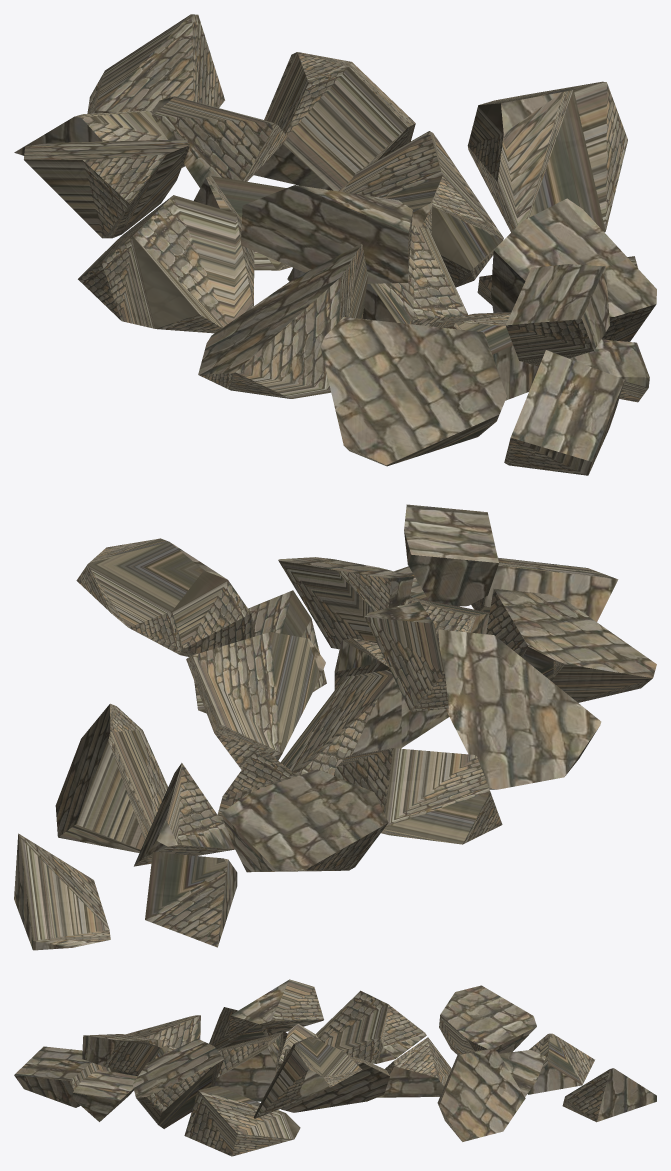
File: BreakWallSmall_000015.obj
3 renders of one model, top to bottom at view 1: azimuth 30°, elevation 25°; view 2: azimuth 150°, elevation 25°; view 3: azimuth 270°, elevation 25°, orthographic. The views are drawn at different scales.
Visible parts, largest first — view 1: Cube.002_cell.013_Cube.002_cell.012, Cube.002_cell.003_Cube.002_cell.002, Cube.002_cell.012_Cube.002_cell.011, Cube.002_cell.017_Cube.002_cell.016, Cube.002_cell.014_Cube.002_cell.013, Cube.002_cell.009_Cube.002_cell.008, Cube.002_cell.010_Cube.002_cell.009, Cube.002_cell.015_Cube.002_cell.014, Cube.002_cell.004_Cube.002_cell.003, Cube.002_cell.002_Cube.002_cell.001, Cube.002_cell.007_Cube.002_cell.006, Cube.002_cell.005_Cube.002_cell.004 (+6 smaller); view 2: Cube.002_cell.017_Cube.002_cell.016, Cube.002_cell.003_Cube.002_cell.002, Cube.002_cell.010_Cube.002_cell.009, Cube.002_cell.015_Cube.002_cell.014, Cube.002_cell.014_Cube.002_cell.013, Cube.002_cell.012_Cube.002_cell.011, Cube.002_cell.013_Cube.002_cell.012, Cube.002_cell.007_Cube.002_cell.006, Cube.002_cell.006_Cube.002_cell.005, Cube.002_cell.005_Cube.002_cell.004, Cube.002_cell.004_Cube.002_cell.003, Cube.002_cell.018_Cube.002_cell.017 (+7 smaller); view 3: Cube.002_cell.014_Cube.002_cell.013, Cube.002_cell.016_Cube.002_cell.015, Cube.002_cell.004_Cube.002_cell.003, Cube.002_cell.010_Cube.002_cell.009, Cube.002_cell.012_Cube.002_cell.011, Cube.002_cell.003_Cube.002_cell.002, Cube.002_cell.009_Cube.002_cell.008, Cube.002_cell.008_Cube.002_cell.007, Cube.002_cell.002_Cube.002_cell.001, Cube.002_cell.005_Cube.002_cell.004, Cube.002_cell_Cube.002_cell.020, Cube.002_cell.018_Cube.002_cell.017 (+7 smaller).
Boxes of the visible parts, <box> form: Cube.002_cell.013_Cube.002_cell.012: <box>320,317,506,466</box>; Cube.002_cell.003_Cube.002_cell.002: <box>467,81,627,232</box>; Cube.002_cell.012_Cube.002_cell.011: <box>78,195,254,333</box>; Cube.002_cell.017_Cube.002_cell.016: <box>198,243,367,398</box>; Cube.002_cell.014_Cube.002_cell.013: <box>254,52,415,191</box>; Cube.002_cell.009_Cube.002_cell.008: <box>240,185,412,283</box>; Cube.002_cell.010_Cube.002_cell.009: <box>24,139,189,238</box>; Cube.002_cell.015_Cube.002_cell.014: <box>342,131,503,287</box>; Cube.002_cell.004_Cube.002_cell.003: <box>491,198,656,341</box>; Cube.002_cell.002_Cube.002_cell.001: <box>504,350,624,475</box>; Cube.002_cell.007_Cube.002_cell.006: <box>505,264,609,366</box>; Cube.002_cell.005_Cube.002_cell.004: <box>87,14,224,113</box>; Cube.002_cell.017_Cube.002_cell.016: <box>437,629,601,789</box>; Cube.002_cell.003_Cube.002_cell.002: <box>76,538,255,656</box>; Cube.002_cell.010_Cube.002_cell.009: <box>221,769,388,872</box>; Cube.002_cell.015_Cube.002_cell.014: <box>186,632,325,769</box>; Cube.002_cell.014_Cube.002_cell.013: <box>55,703,168,852</box>; Cube.002_cell.012_Cube.002_cell.011: <box>334,748,502,844</box>; Cube.002_cell.013_Cube.002_cell.012: <box>486,588,656,702</box>; Cube.002_cell.007_Cube.002_cell.006: <box>404,504,498,606</box>; Cube.002_cell.006_Cube.002_cell.005: <box>280,670,401,775</box>; Cube.002_cell.005_Cube.002_cell.004: <box>14,833,110,950</box>; Cube.002_cell.004_Cube.002_cell.003: <box>278,557,413,649</box>; Cube.002_cell.018_Cube.002_cell.017: <box>145,852,237,947</box>; Cube.002_cell.014_Cube.002_cell.013: <box>437,1048,525,1141</box>; Cube.002_cell.016_Cube.002_cell.015: <box>184,1086,300,1156</box>; Cube.002_cell.004_Cube.002_cell.003: <box>132,1038,223,1128</box>; Cube.002_cell.010_Cube.002_cell.009: <box>439,985,536,1054</box>; Cube.002_cell.012_Cube.002_cell.011: <box>315,990,426,1063</box>; Cube.002_cell.003_Cube.002_cell.002: <box>253,1036,362,1118</box>; Cube.002_cell.009_Cube.002_cell.008: <box>228,979,323,1042</box>; Cube.002_cell.008_Cube.002_cell.007: <box>215,1032,283,1101</box>; Cube.002_cell.002_Cube.002_cell.001: <box>14,1046,111,1107</box>; Cube.002_cell.005_Cube.002_cell.004: <box>562,1068,656,1122</box>; Cube.002_cell_Cube.002_cell.020: <box>377,1037,451,1097</box>; Cube.002_cell.018_Cube.002_cell.017: <box>527,1033,594,1094</box>.
Size of the model in its own units: 25.5 by 8.89 by 50.47.
2 materials, 2 textured.
